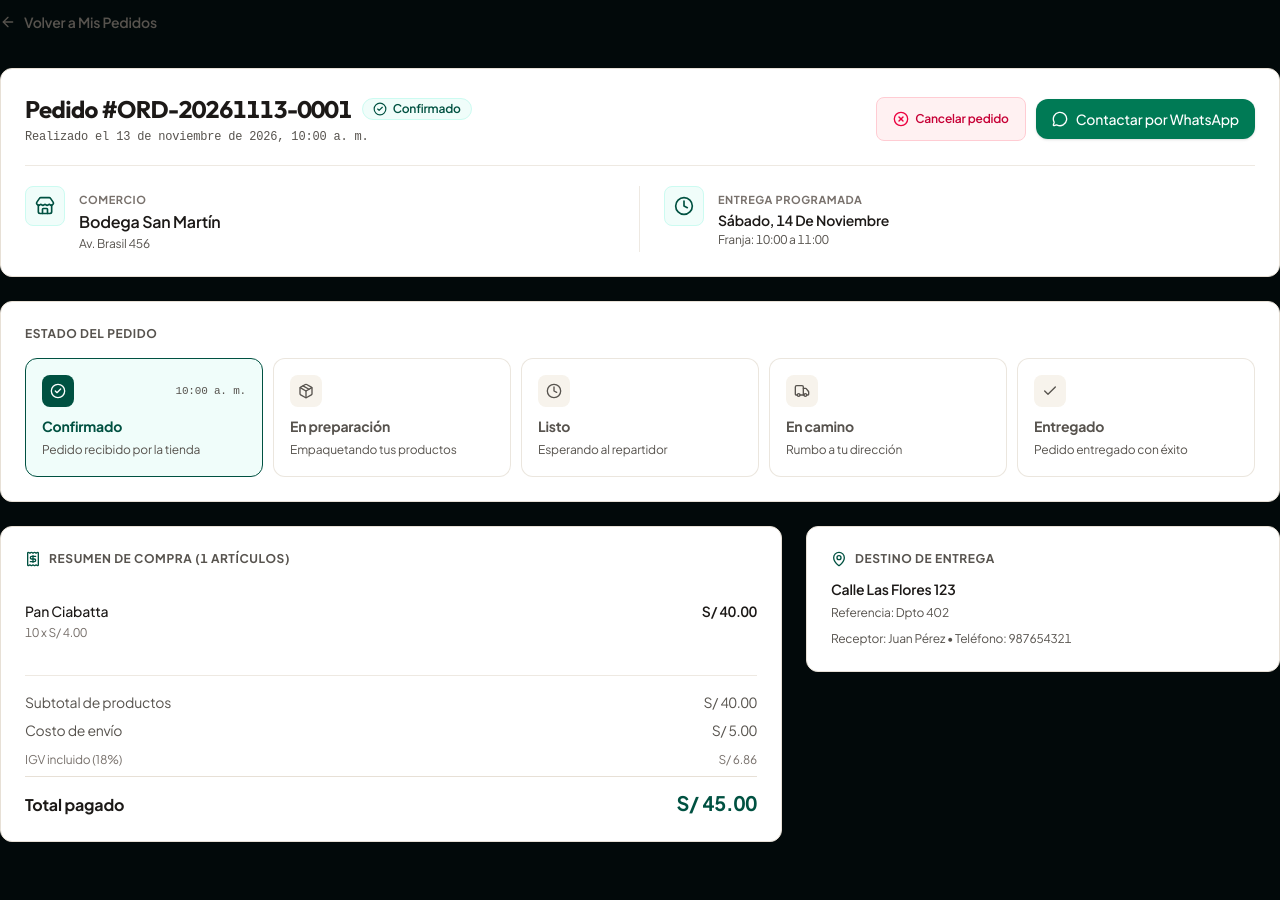
Test case: OrderDetailView Component › resultado incierto tras timeout: shows connection warning inviting to refresh without claiming definitive success or closing modal
Note: Open modal
Click the button "Cancelar pedido".
click(951, 119)  # box [876, 97, 1026, 141]
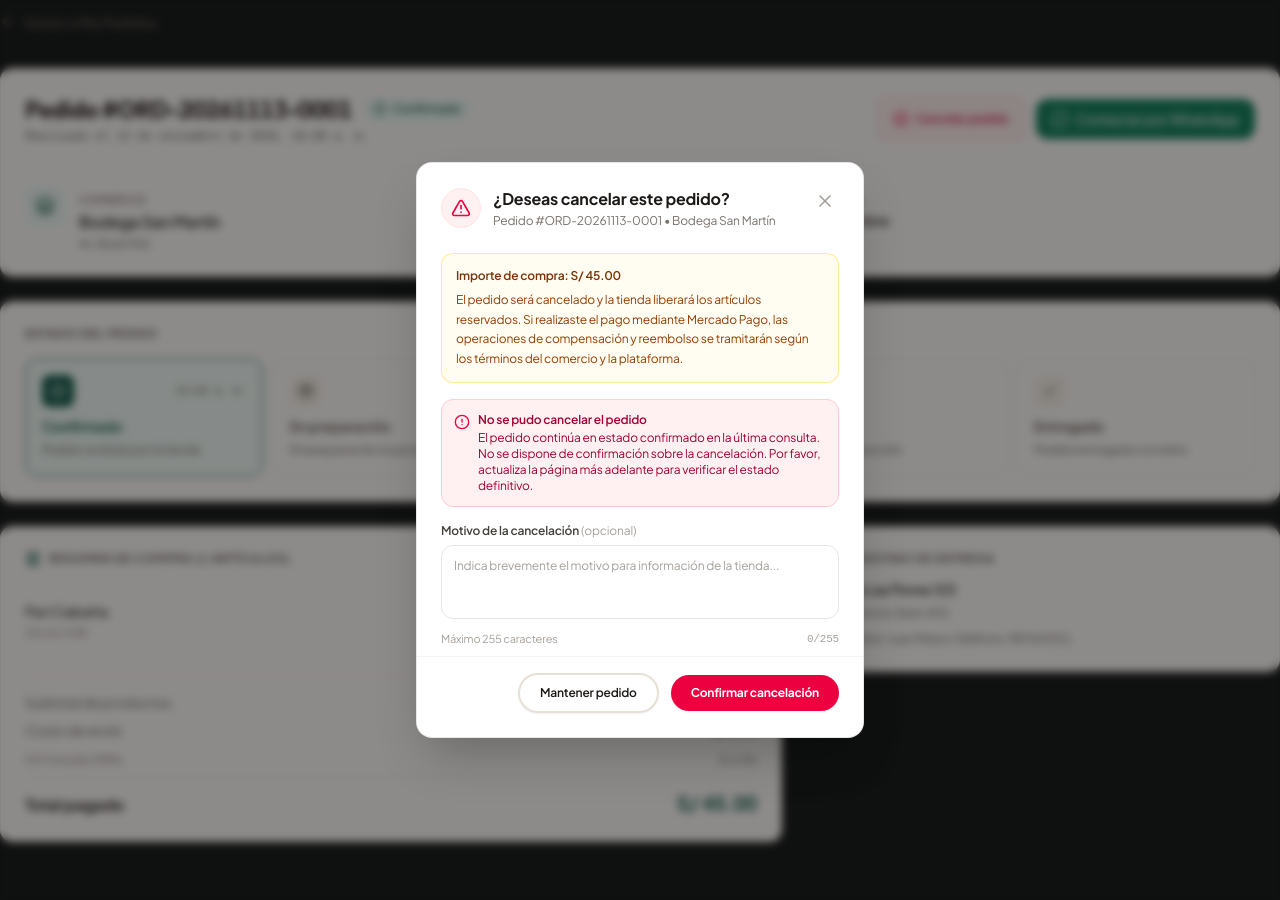
Expected: the text "Confirmado" is shown, [393, 101, 461, 117]
Expected: the dialog is shown
Expected: the text "El pedido continúa en estado confirmado en la última consulta. No se dispone de confirmación sobre la cancelación. Por f" is shown, [478, 430, 820, 493]
